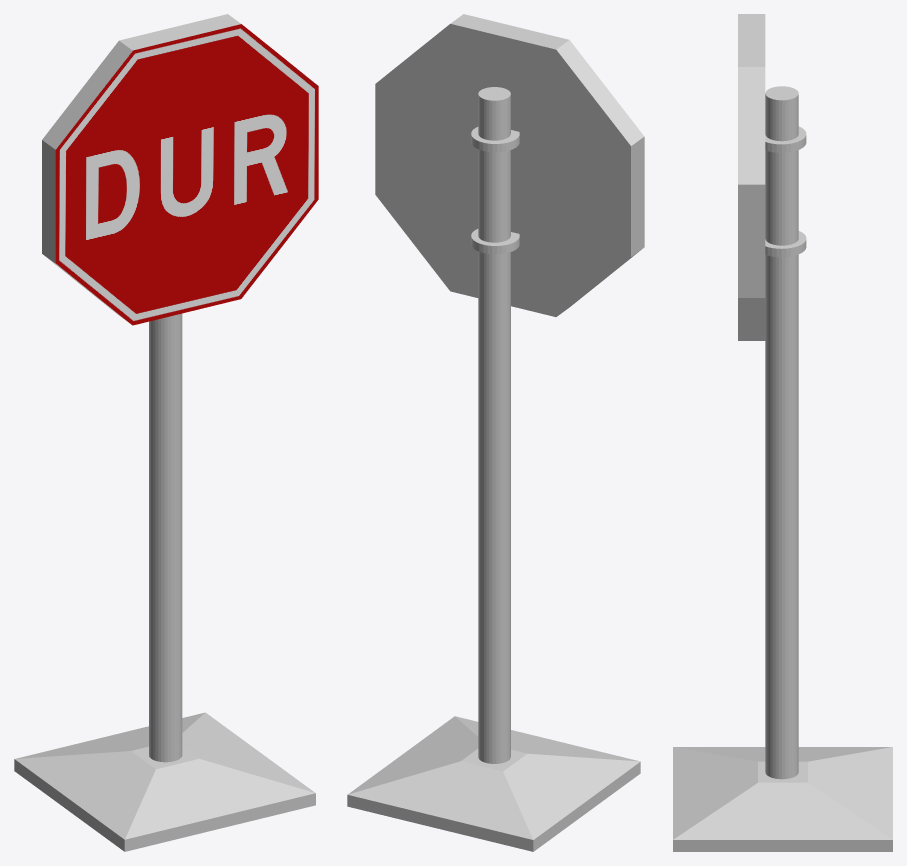
The model's file is dur.dae.
3 views of the same model, side by side, from view 1: azimuth 30°, elevation 25°; view 2: azimuth 150°, elevation 25°; view 3: azimuth 270°, elevation 25° (orthographic). The views are drawn at different scales.
Visible parts, largest first — view 1: Cylinder.005; view 2: Cylinder.005; view 3: Cylinder.005.
Part boxes in pixels (<box>): Cylinder.005: <box>14,14,318,851</box>; Cylinder.005: <box>347,14,644,851</box>; Cylinder.005: <box>673,14,892,851</box>.
Size of the model in its own units: 1.03 by 0.7483 by 2.87.
2 materials, 1 textured.
